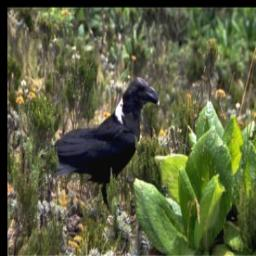Crow: (53, 75, 161, 211)
